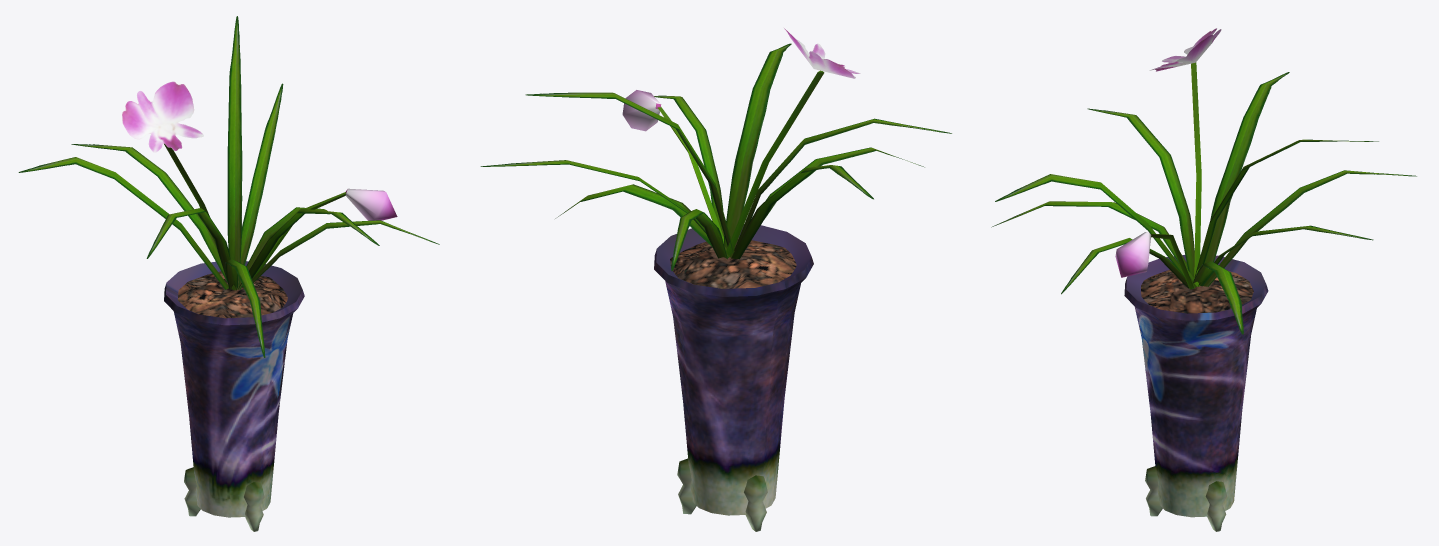
File: Orchid_ORCHID.dae
3 views of the same model, side by side, from view 1: azimuth 30°, elevation 25°; view 2: azimuth 150°, elevation 25°; view 3: azimuth 270°, elevation 25° (orthographic). The views are drawn at different scales.
Parts seen in each view (by area): view 1: mesh0; view 2: mesh0; view 3: mesh0.
Boxes of the visible parts, left/top/right/bottom form: mesh0: left=18, top=16, right=439, bottom=531; mesh0: left=480, top=28, right=951, bottom=531; mesh0: left=991, top=28, right=1416, bottom=531.
Bounding box in the file's own units: 0.415 × 0.5641 × 0.4806.
